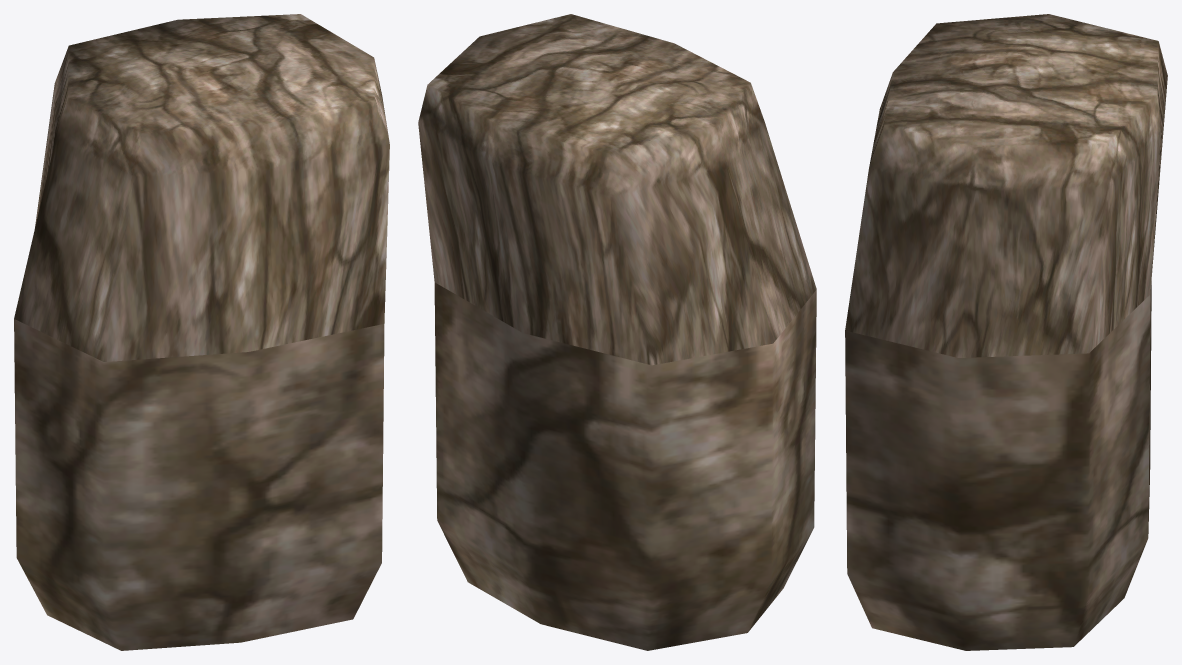
The model's file is OVERHILL_A_01_LINE08.fbx.
3 views of the same model, side by side, from view 1: azimuth 30°, elevation 25°; view 2: azimuth 150°, elevation 25°; view 3: azimuth 270°, elevation 25° (orthographic). The views are drawn at different scales.
Parts seen in each view (by area): view 1: OVERHILL_A_01_LINE08; view 2: OVERHILL_A_01_LINE08; view 3: OVERHILL_A_01_LINE08.
Boxes of the visible parts, bbox=[...] form: OVERHILL_A_01_LINE08: bbox=[14, 14, 389, 650]; OVERHILL_A_01_LINE08: bbox=[418, 14, 816, 650]; OVERHILL_A_01_LINE08: bbox=[845, 14, 1167, 650].
Bounding box in the file's own units: 20771 × 30685 × 17020.
1 material, 1 textured.
